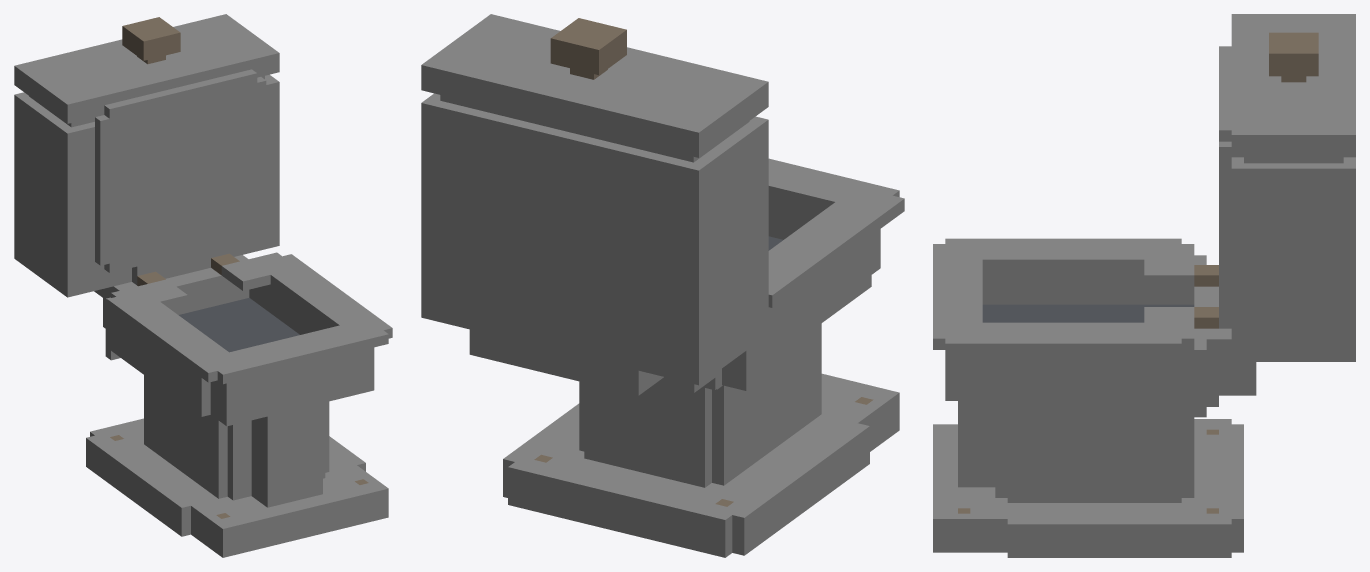
The model's file is toilet.obj.
3 views of the same model, side by side, from view 1: azimuth 30°, elevation 25°; view 2: azimuth 150°, elevation 25°; view 3: azimuth 270°, elevation 25° (orthographic). The views are drawn at different scales.
Bounding box in the file's own units: 23 × 41 × 34.
1 material, 1 textured.
